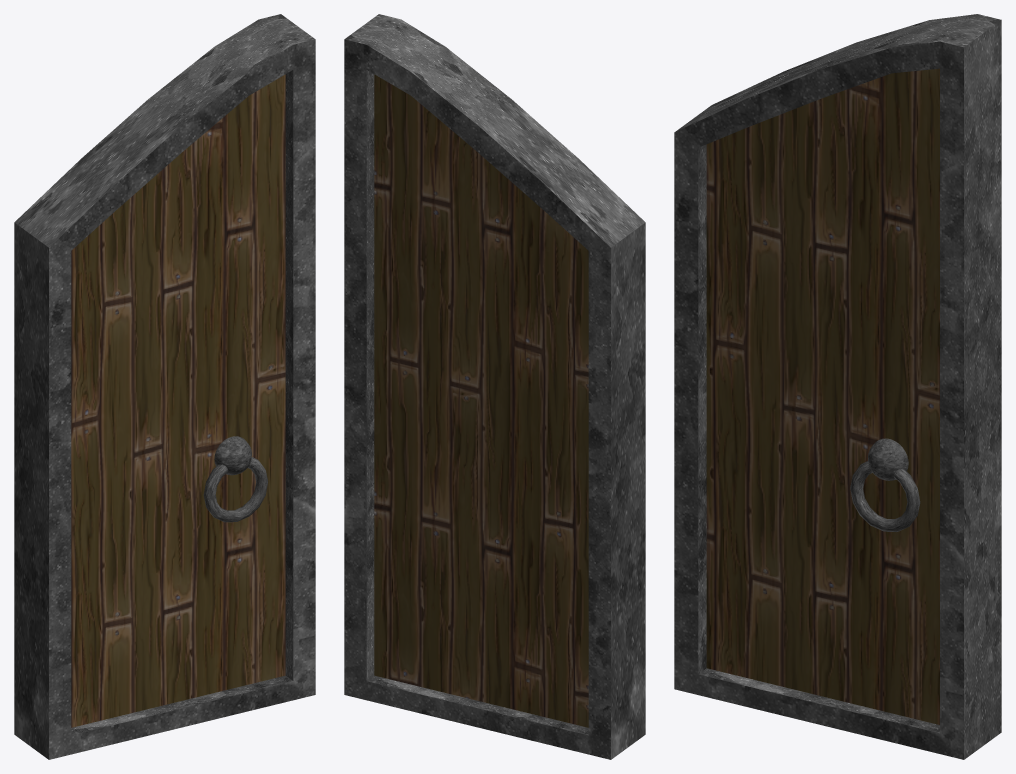
File: castle_gate_r.fbx
3 renders of one model, left to right at view 1: azimuth 30°, elevation 25°; view 2: azimuth 150°, elevation 25°; view 3: azimuth 330°, elevation 25°, orthographic. The views are drawn at different scales.
Parts seen in each view (by area): view 1: castle_door_r, pTorus1, pSphere1; view 2: castle_door_r; view 3: castle_door_r, pTorus1, pSphere1.
Part boxes in pixels (<box>): castle_door_r: <box>14,14,315,759</box>; pTorus1: <box>203,457,268,522</box>; pSphere1: <box>214,436,251,475</box>; castle_door_r: <box>344,14,645,759</box>; castle_door_r: <box>674,14,1001,759</box>; pTorus1: <box>850,461,920,531</box>; pSphere1: <box>868,438,908,480</box>.
Bounding box in the file's own units: 200 × 470 × 48.33.
